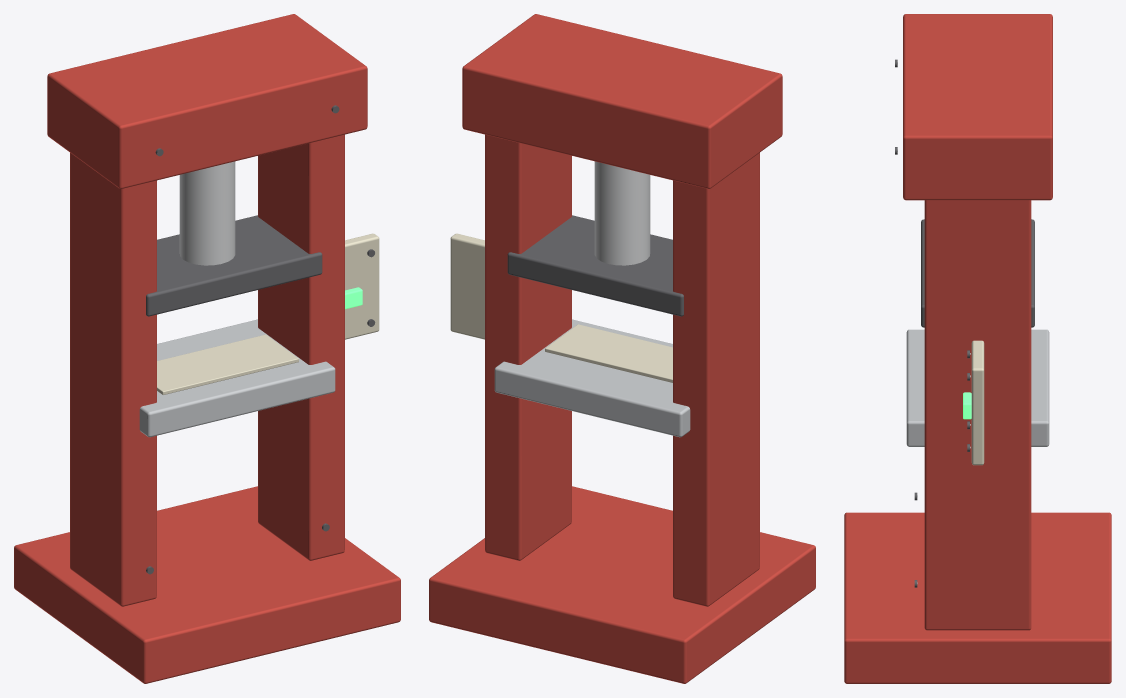
Rendered from prison-complex-builder-licence-plate-press-c412ef4d__25669.glb.
The picture shows the model from 3 angles, left to right: view 1: azimuth 30°, elevation 25°; view 2: azimuth 150°, elevation 25°; view 3: azimuth 270°, elevation 25°; orthographic projection.
Parts seen in each view (by area): view 1: licence-plate-press; view 2: licence-plate-press; view 3: licence-plate-press.
Part boxes in pixels (box(x1,y1,x2,y2)): licence-plate-press: box(14, 14, 400, 683); licence-plate-press: box(429, 14, 815, 683); licence-plate-press: box(844, 14, 1111, 683).
Bounding box in the file's own units: 0.985 × 1.69 × 0.75.
